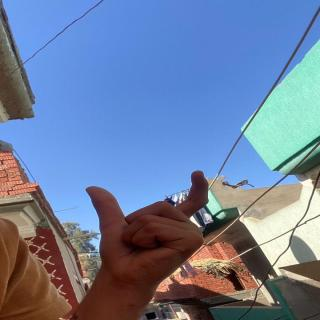NOON: (71, 166, 239, 280)
